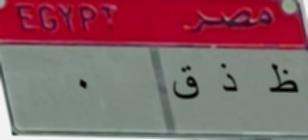0: (70, 68, 96, 98)
Thaa: (257, 57, 303, 101)
qaaf: (171, 60, 201, 104)
zaal: (210, 55, 240, 100)
